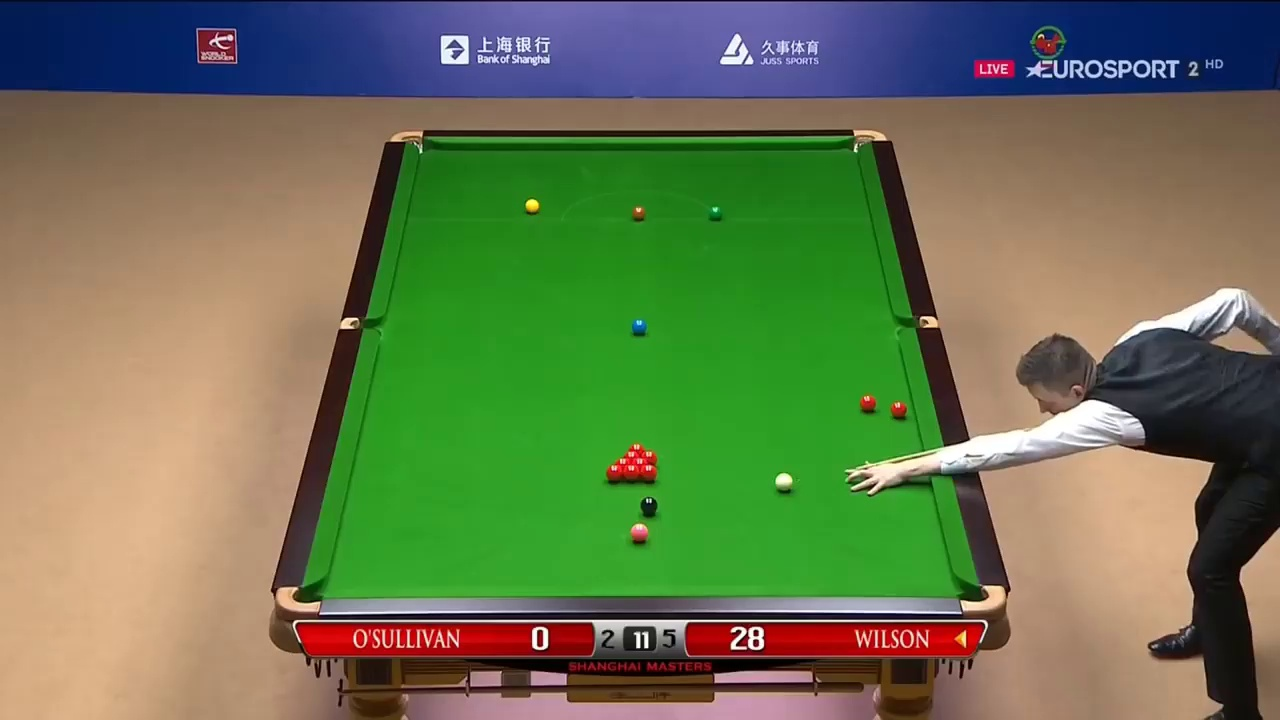ball: (773, 471, 797, 495), (627, 315, 650, 338), (886, 399, 909, 422), (628, 523, 651, 543), (521, 198, 543, 216), (629, 204, 648, 222), (857, 394, 876, 412), (640, 497, 660, 514), (642, 465, 659, 482), (706, 206, 721, 222)
